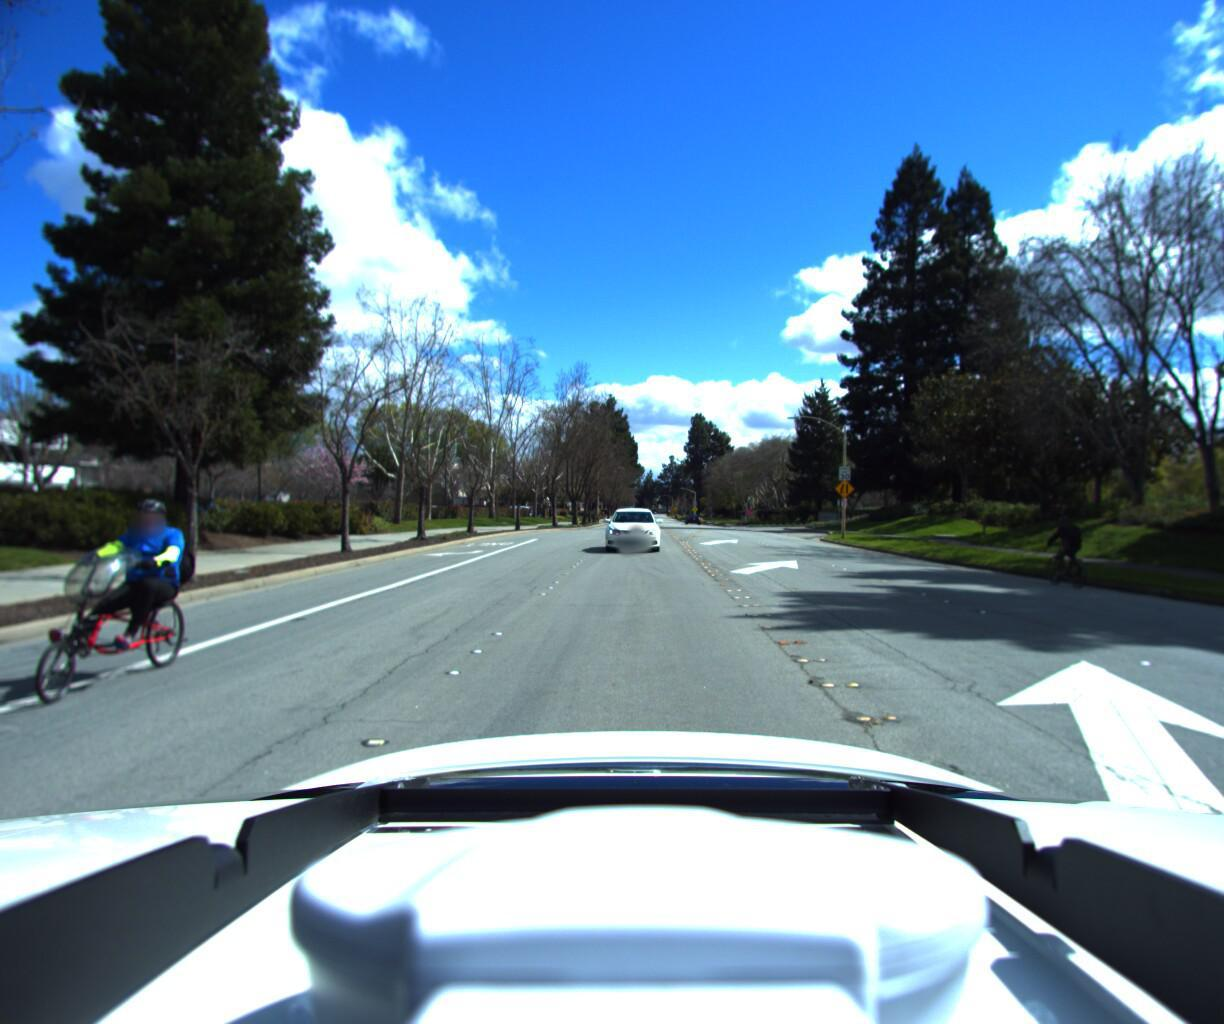bicycle: (0, 490, 213, 720), (1017, 517, 1094, 593)
car: (601, 513, 657, 561)
